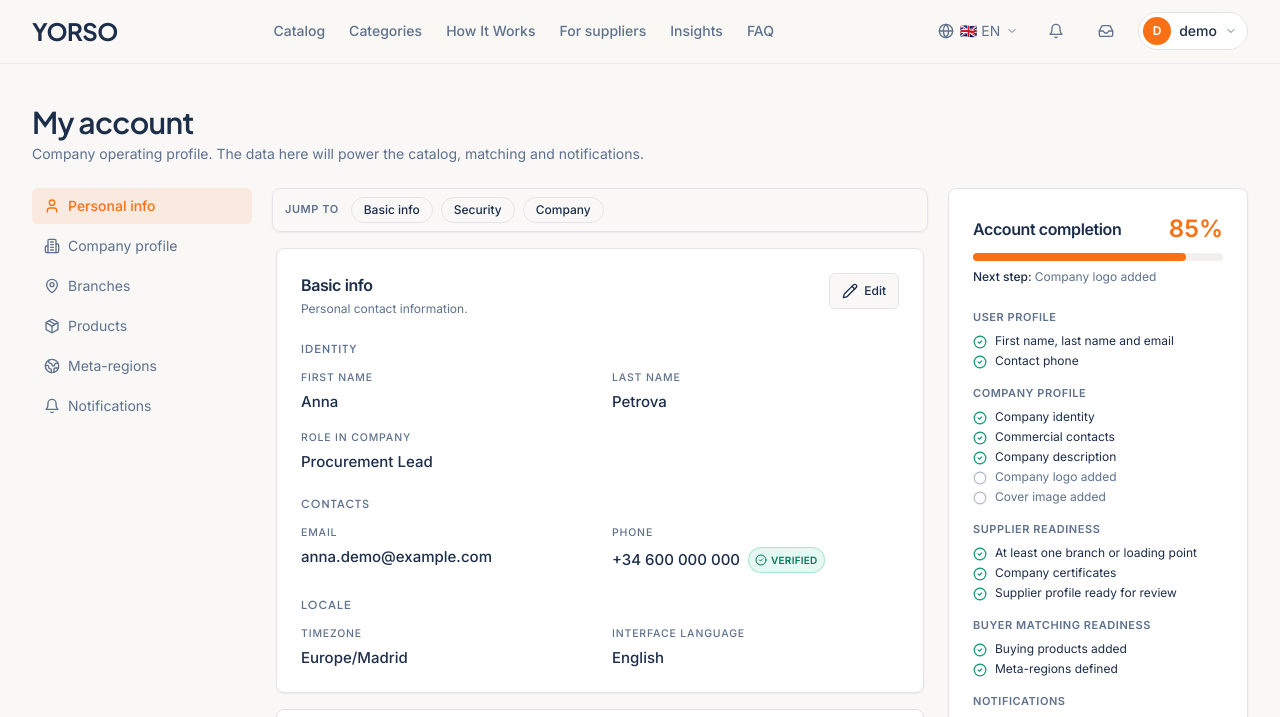
Test: Account editability › Personal: invalid email blocks save
The image size is (1280, 717).
Click the button with test id "account-card-personal-basic-edit" at (864, 291), box 829,273 -> 899,309
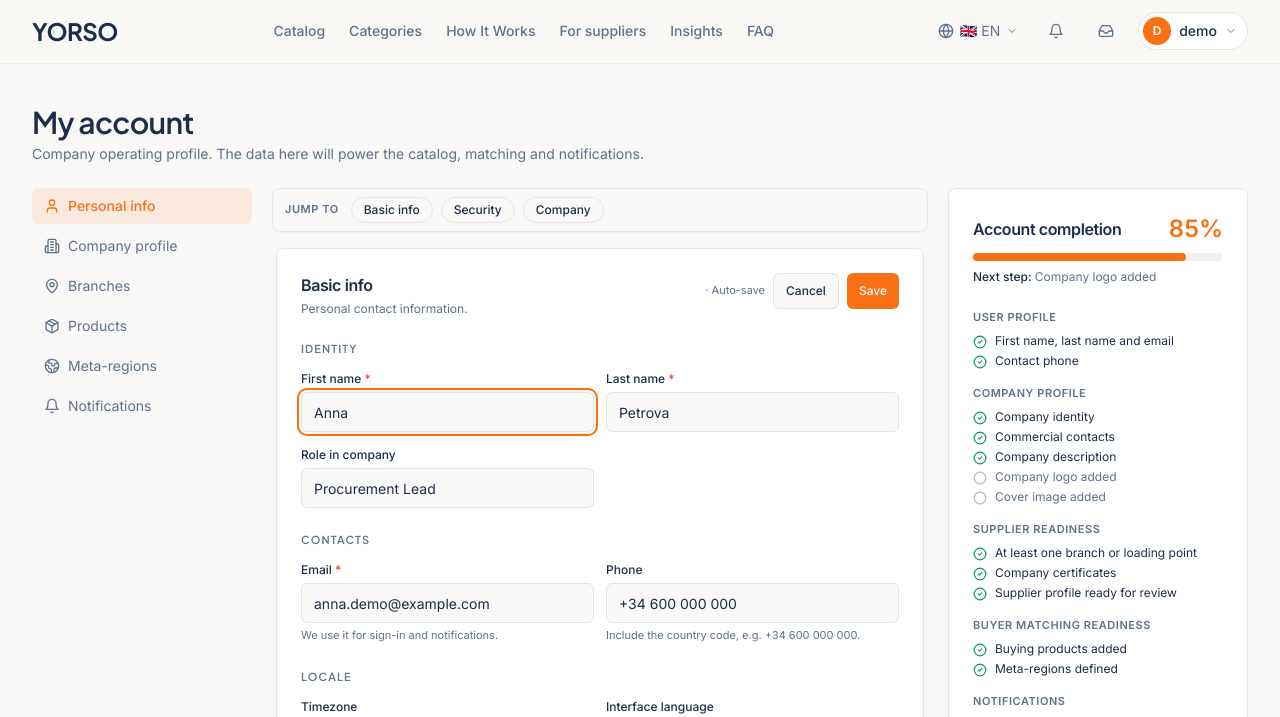
3rd field is email
Replace the text in the field labelled "Email *" with "broken" at (448, 603), box 301,583 -> 594,623
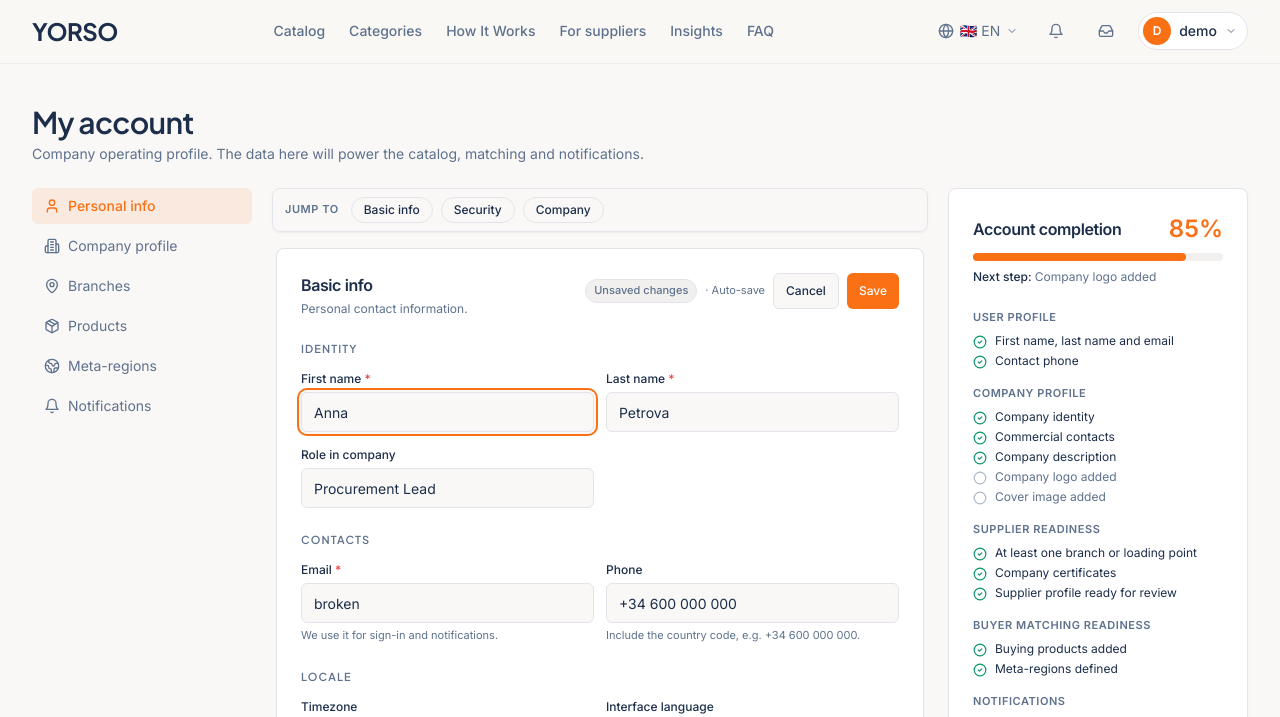
Click the button with test id "account-card-personal-basic-save" at (873, 291), box 847,273 -> 899,309
(page scrolled)
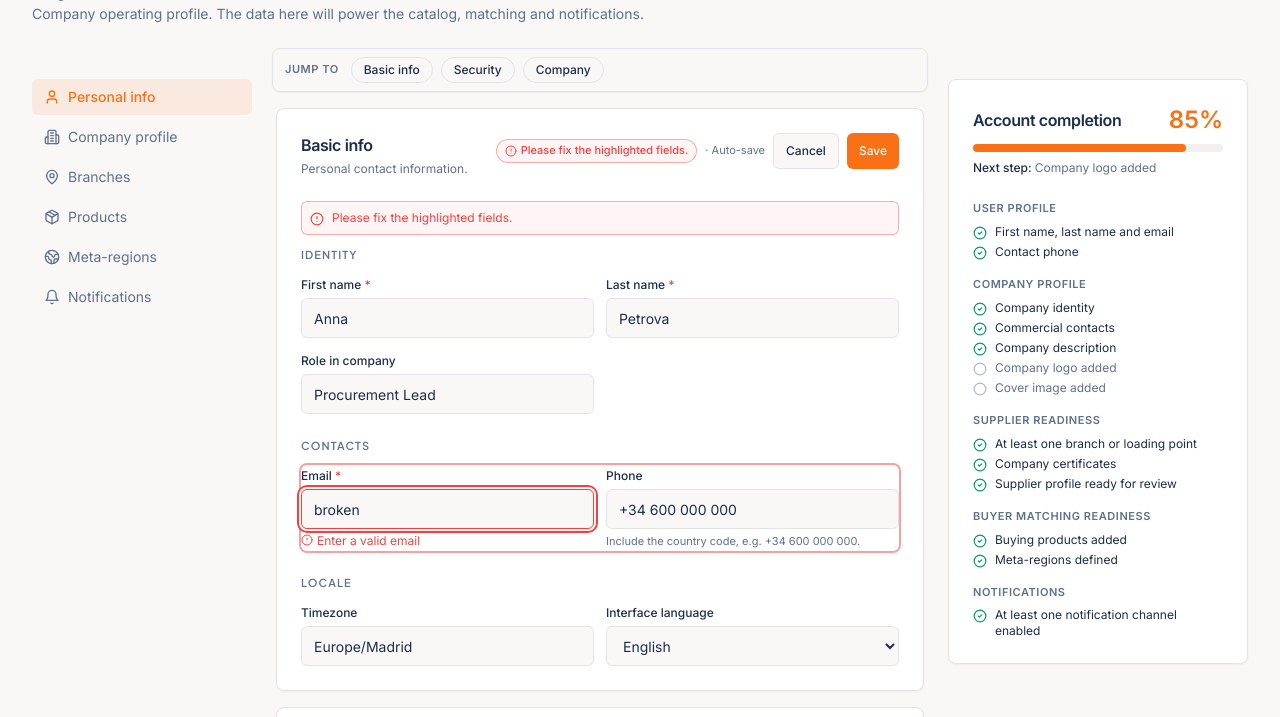
expect the element with test id "account-card-personal-basic" has attribute data-editing="true": met, box 276,108 -> 924,691
